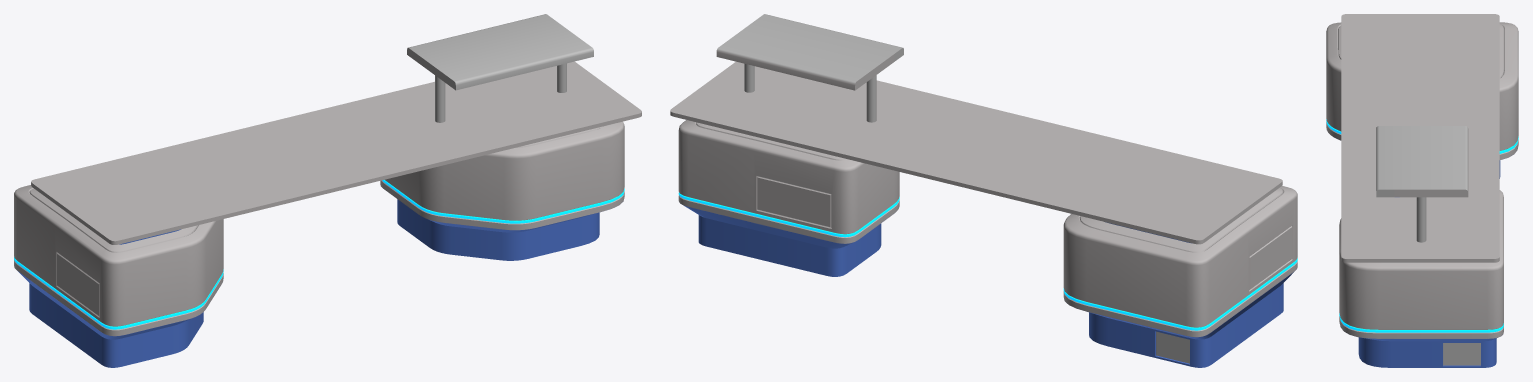
The model's file is LabDeskA.fbx.
The picture shows the model from 3 angles, left to right: view 1: azimuth 30°, elevation 25°; view 2: azimuth 150°, elevation 25°; view 3: azimuth 270°, elevation 25°; orthographic projection. The views are drawn at different scales.
Parts seen in each view (by area): view 1: LabDeskA; view 2: LabDeskA; view 3: LabDeskA.
Part boxes in pixels (x1,y1,x2,y2): LabDeskA: (14,14,641,367); LabDeskA: (670,14,1297,367); LabDeskA: (1326,14,1518,367).
Size of the model in its own units: 360 by 117 by 117.
